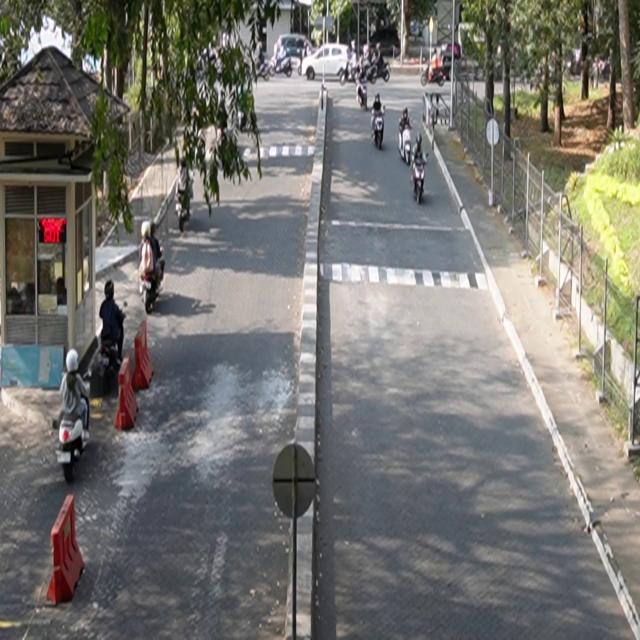car: (300, 44, 351, 82)
